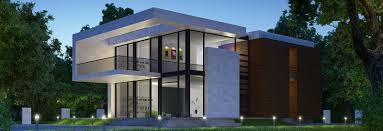Building House: (72, 14, 315, 117)
